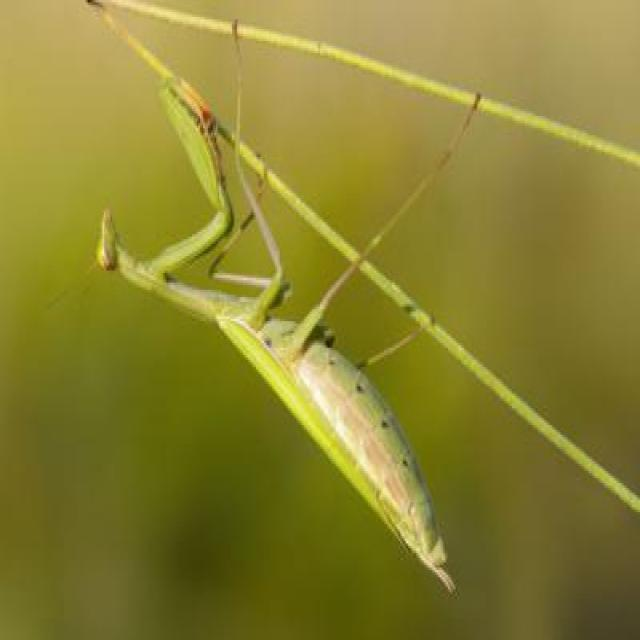antennae: (46, 256, 97, 310), (81, 268, 98, 302)
body: (94, 206, 456, 583)
insect: (49, 19, 489, 596)
legs: (281, 92, 485, 359), (205, 19, 286, 314), (153, 83, 236, 274), (212, 157, 293, 295), (356, 317, 444, 366)
mouthpart: (99, 207, 114, 224)
wings: (218, 318, 452, 587)
